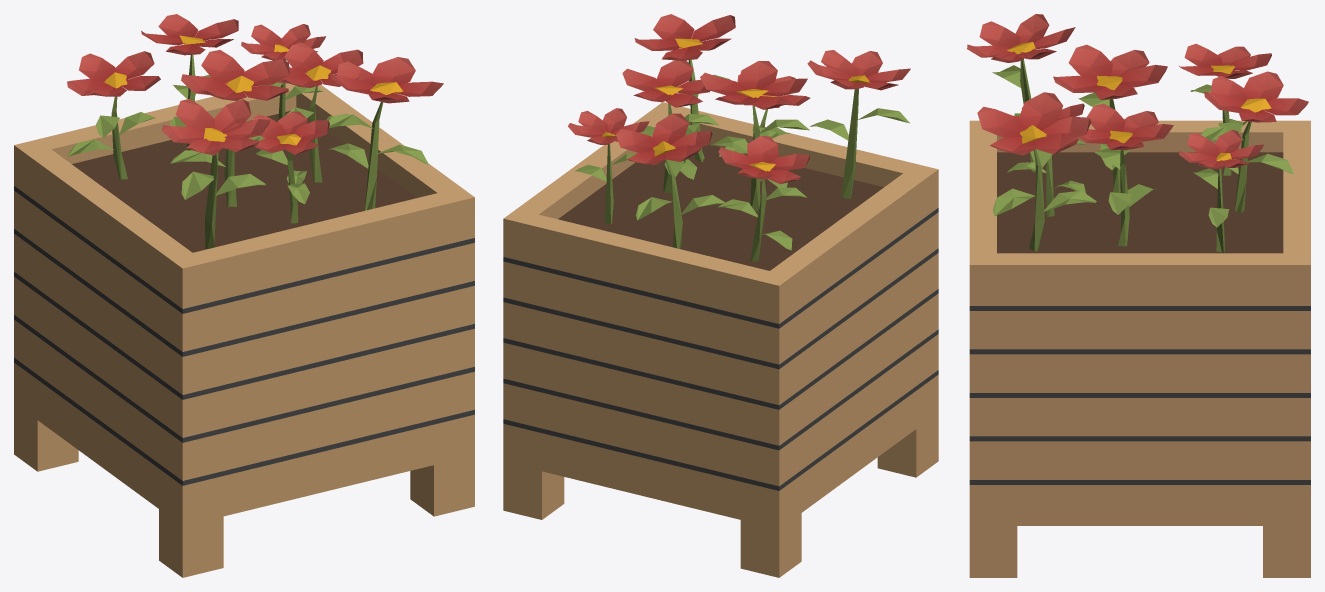
Rendered from Pot_02.fbx.
3 renders of one model, left to right at view 1: azimuth 30°, elevation 25°; view 2: azimuth 150°, elevation 25°; view 3: azimuth 270°, elevation 25°, orthographic. The views are drawn at different scales.
Parts seen in each view (by area): view 1: Pot_02; view 2: Pot_02; view 3: Pot_02.
Part boxes in pixels (bbox=[...]): Pot_02: bbox=[14, 14, 474, 577]; Pot_02: bbox=[503, 14, 938, 577]; Pot_02: bbox=[967, 14, 1310, 577].
Size of the model in its own units: 59.33 by 83.13 by 59.76.
